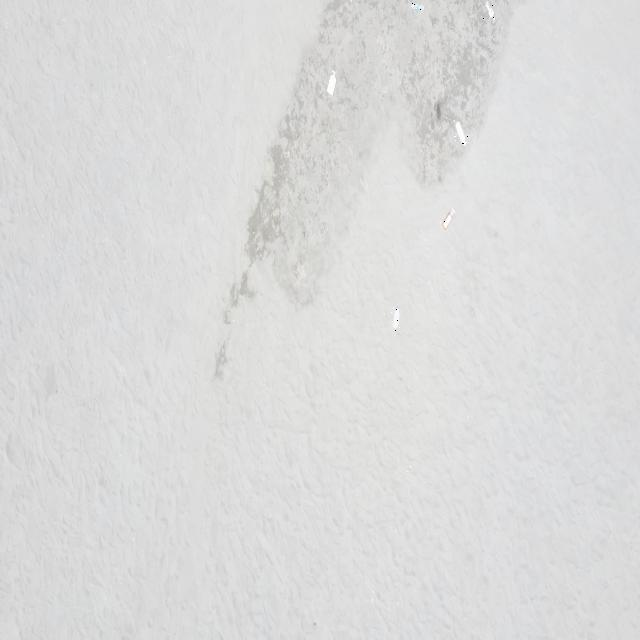Garbage: (440, 207, 452, 230), (455, 120, 466, 143), (327, 70, 335, 95), (484, 0, 493, 20), (392, 307, 399, 329), (412, 0, 423, 11)
